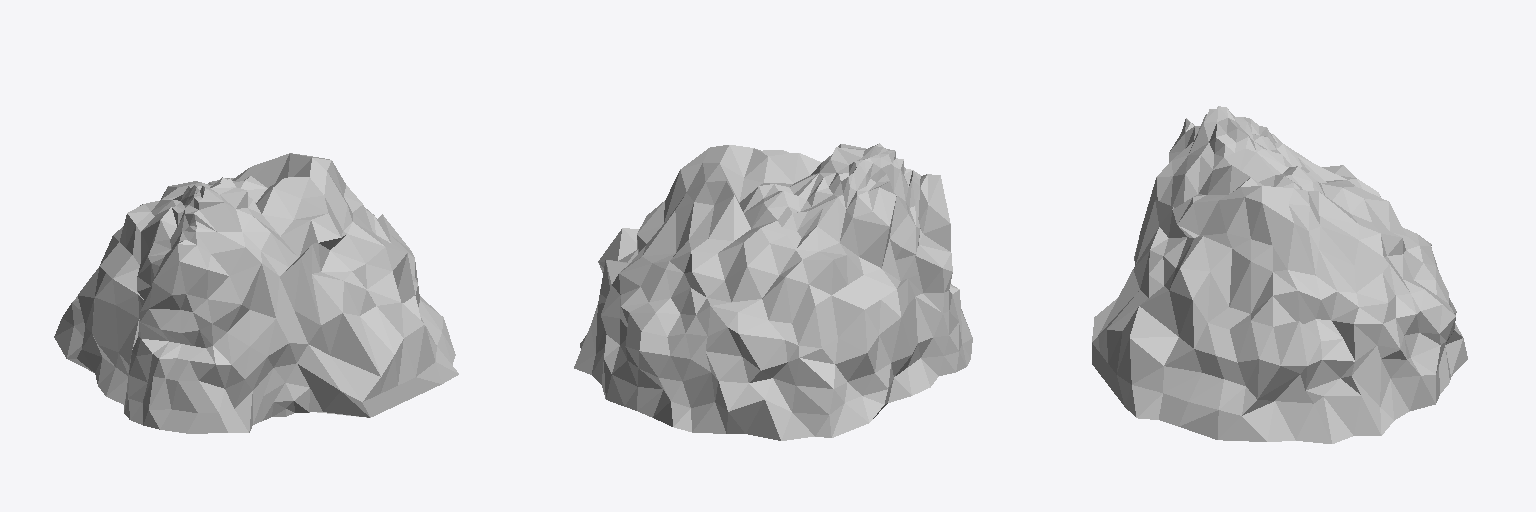
File: Rock02_03.obj
3 views of the same model, side by side, from view 1: azimuth 30°, elevation 25°; view 2: azimuth 150°, elevation 25°; view 3: azimuth 270°, elevation 25° (orthographic).
Parts seen in each view (by area): view 1: ICO球; view 2: ICO球; view 3: ICO球.
Boxes of the visible parts, <box> form: ICO球: <box>54,153,458,433</box>; ICO球: <box>574,143,972,440</box>; ICO球: <box>1092,106,1467,443</box>.
Size of the model in its own units: 2.17 by 1.41 by 2.18.